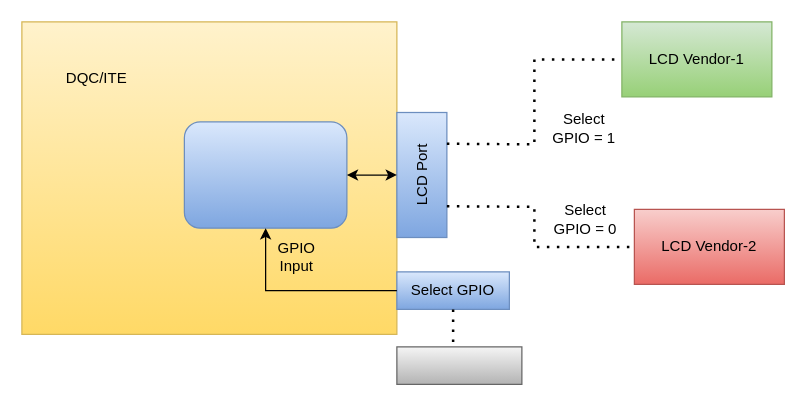
This 806x406 diagram has some shape labels left out. The centre of each missing label's shape, as x and y in pixels:
"Dual Vendor support enabled on LCD Display Driver" belongs at (265,174).
"Vcc(3V/5V)/GND" belongs at (459,365).
